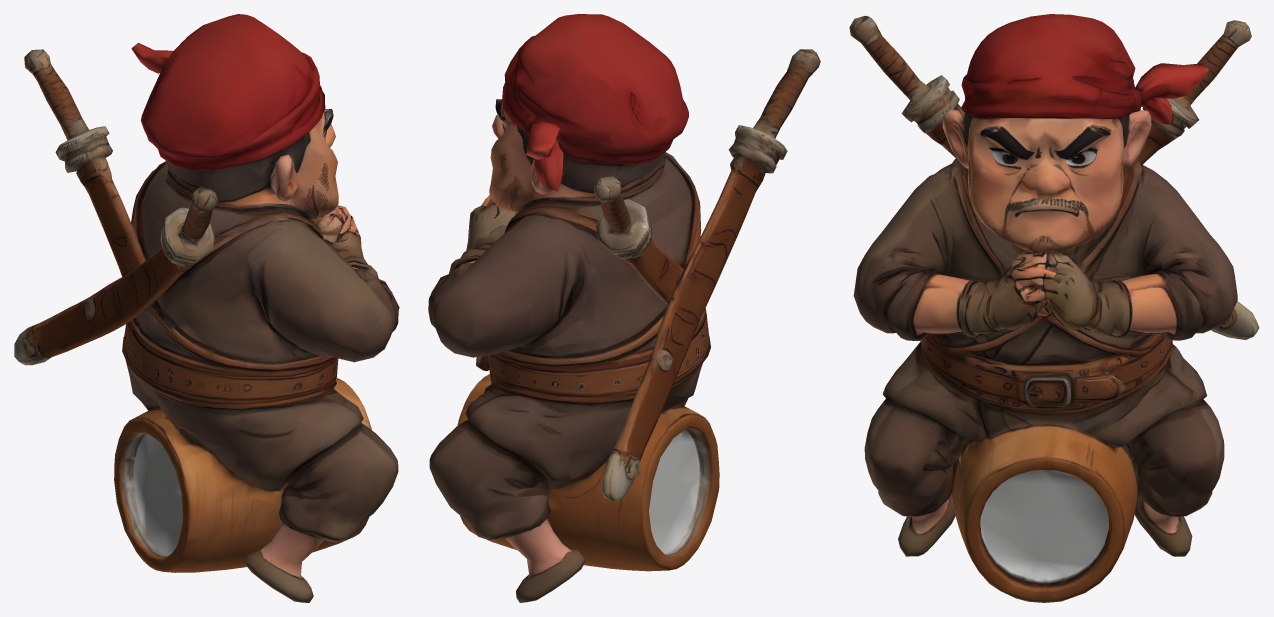
Rendered from a_guard.glb.
3 views of the same model, side by side, from view 1: azimuth 30°, elevation 25°; view 2: azimuth 150°, elevation 25°; view 3: azimuth 270°, elevation 25° (orthographic). The views are drawn at different scales.
Parts seen in each view (by area): view 1: tripo_node_73e79c63-71ef-41a1-a2dd-283e93c3c0d0; view 2: tripo_node_73e79c63-71ef-41a1-a2dd-283e93c3c0d0; view 3: tripo_node_73e79c63-71ef-41a1-a2dd-283e93c3c0d0.
Part boxes in pixels (x1=…): tripo_node_73e79c63-71ef-41a1-a2dd-283e93c3c0d0: x1=14, y1=14, x2=399, y2=602; tripo_node_73e79c63-71ef-41a1-a2dd-283e93c3c0d0: x1=428, y1=14, x2=820, y2=602; tripo_node_73e79c63-71ef-41a1-a2dd-283e93c3c0d0: x1=849, y1=14, x2=1259, y2=602.
Bounding box in the file's own units: 0.4918 × 1 × 0.6801.
Materials: 1 (1 with a texture image).
